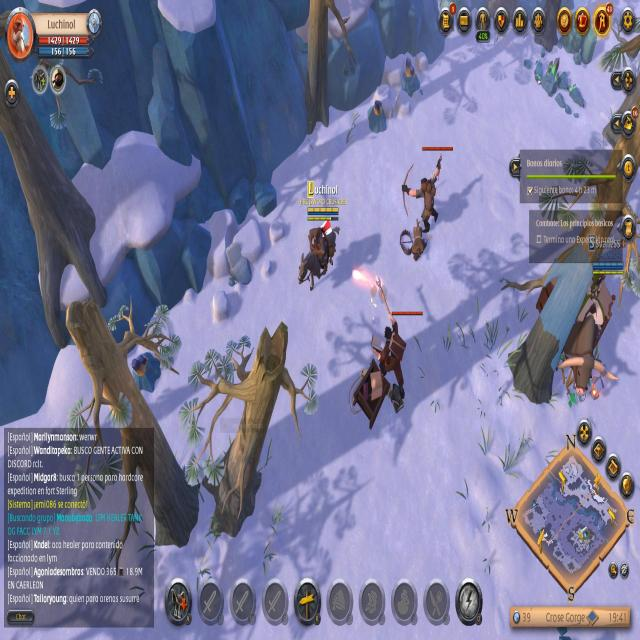piedra_cobre: (128, 346, 168, 404), (399, 54, 426, 108), (363, 92, 392, 138)
